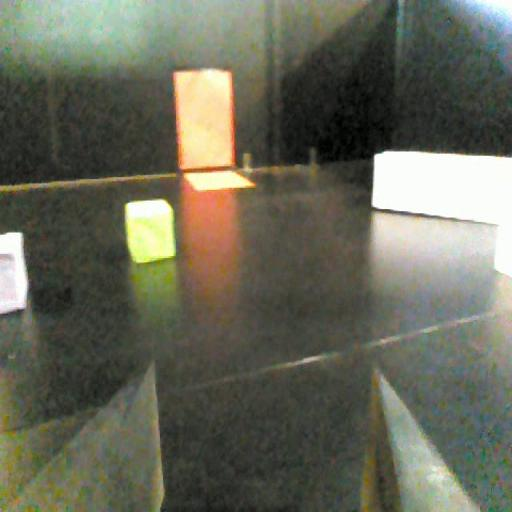cube: (119, 197, 182, 268), (1, 230, 29, 320)
